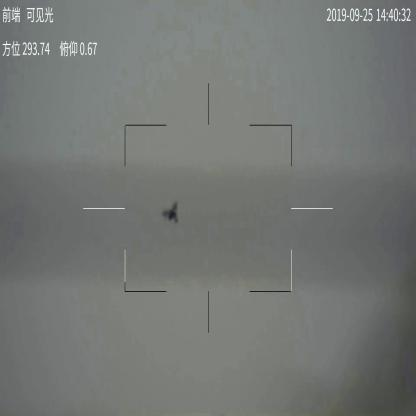uav: (161, 200, 181, 226)
